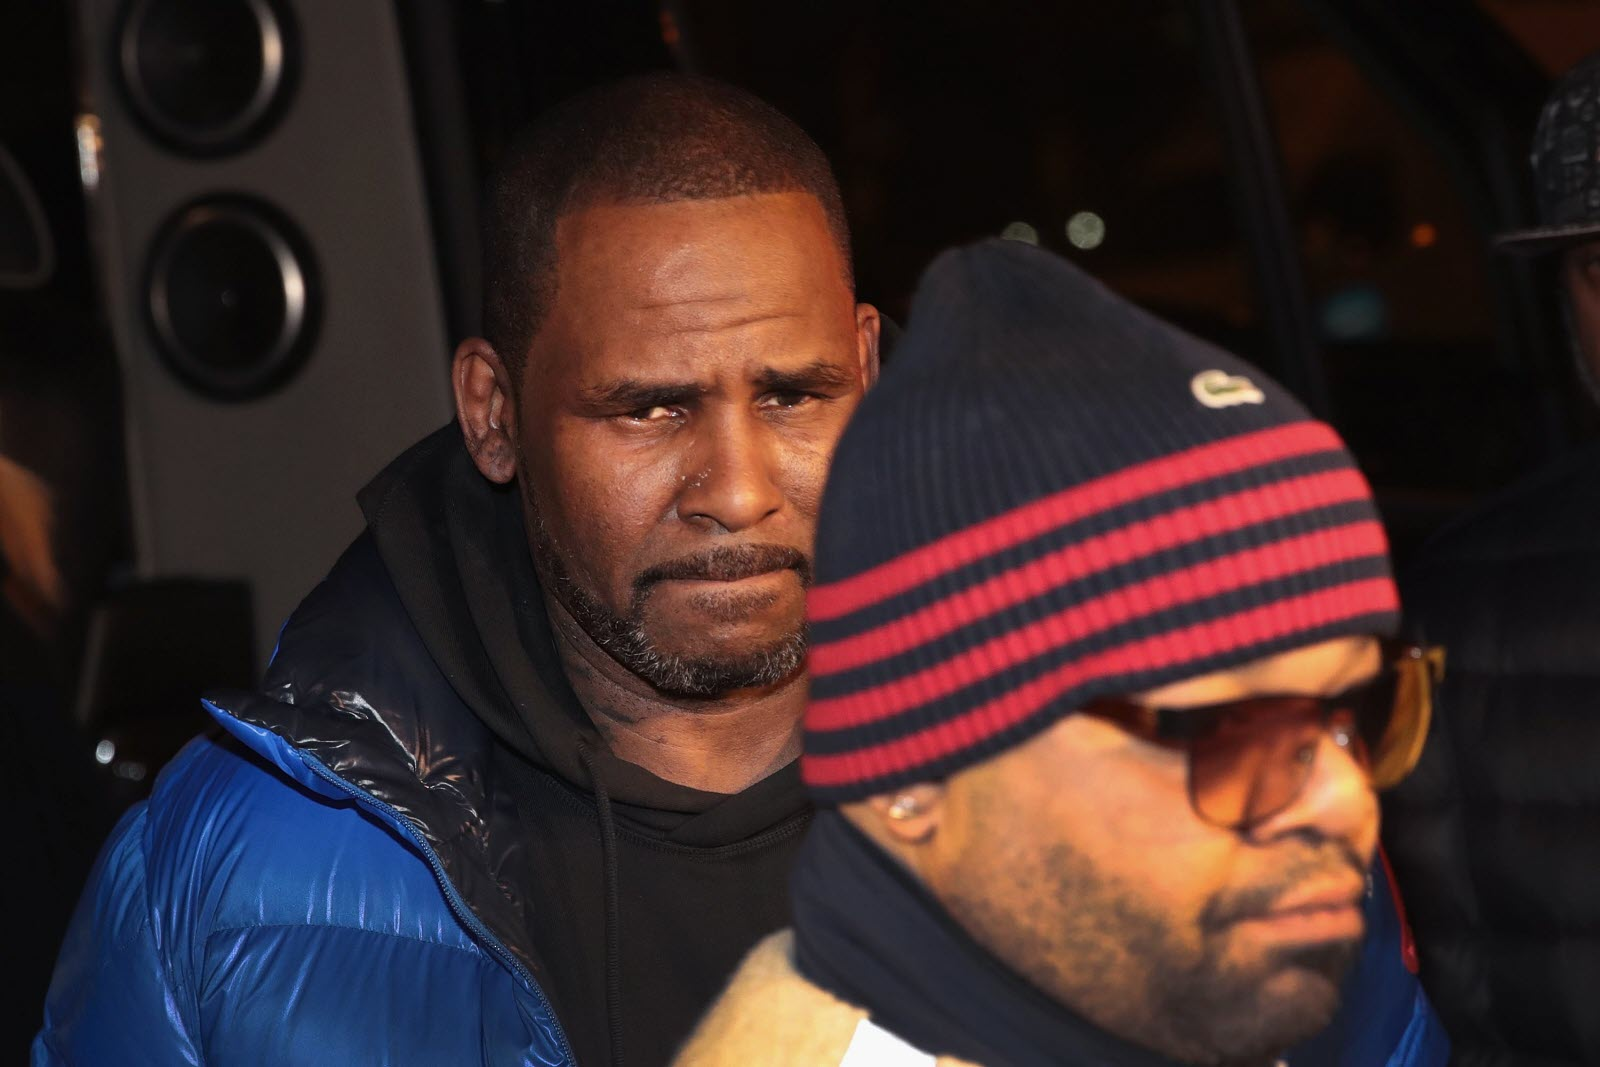without_mask: (538, 246, 851, 697), (1115, 627, 1404, 1042)
